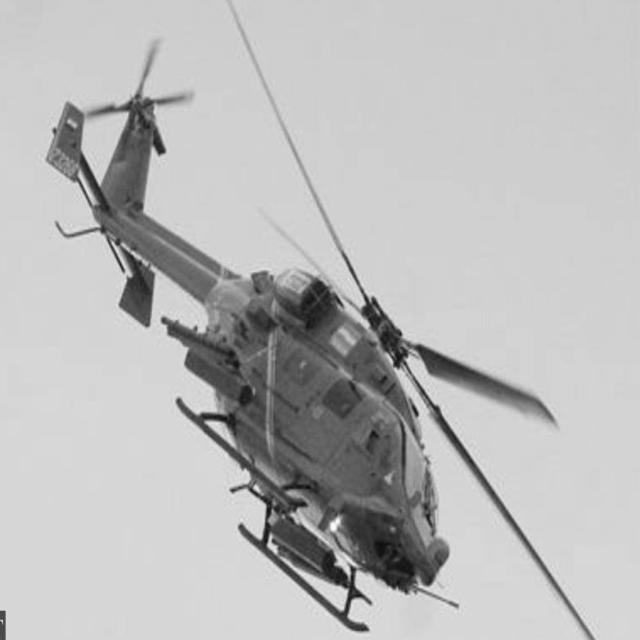helicopter: (46, 1, 604, 640)
